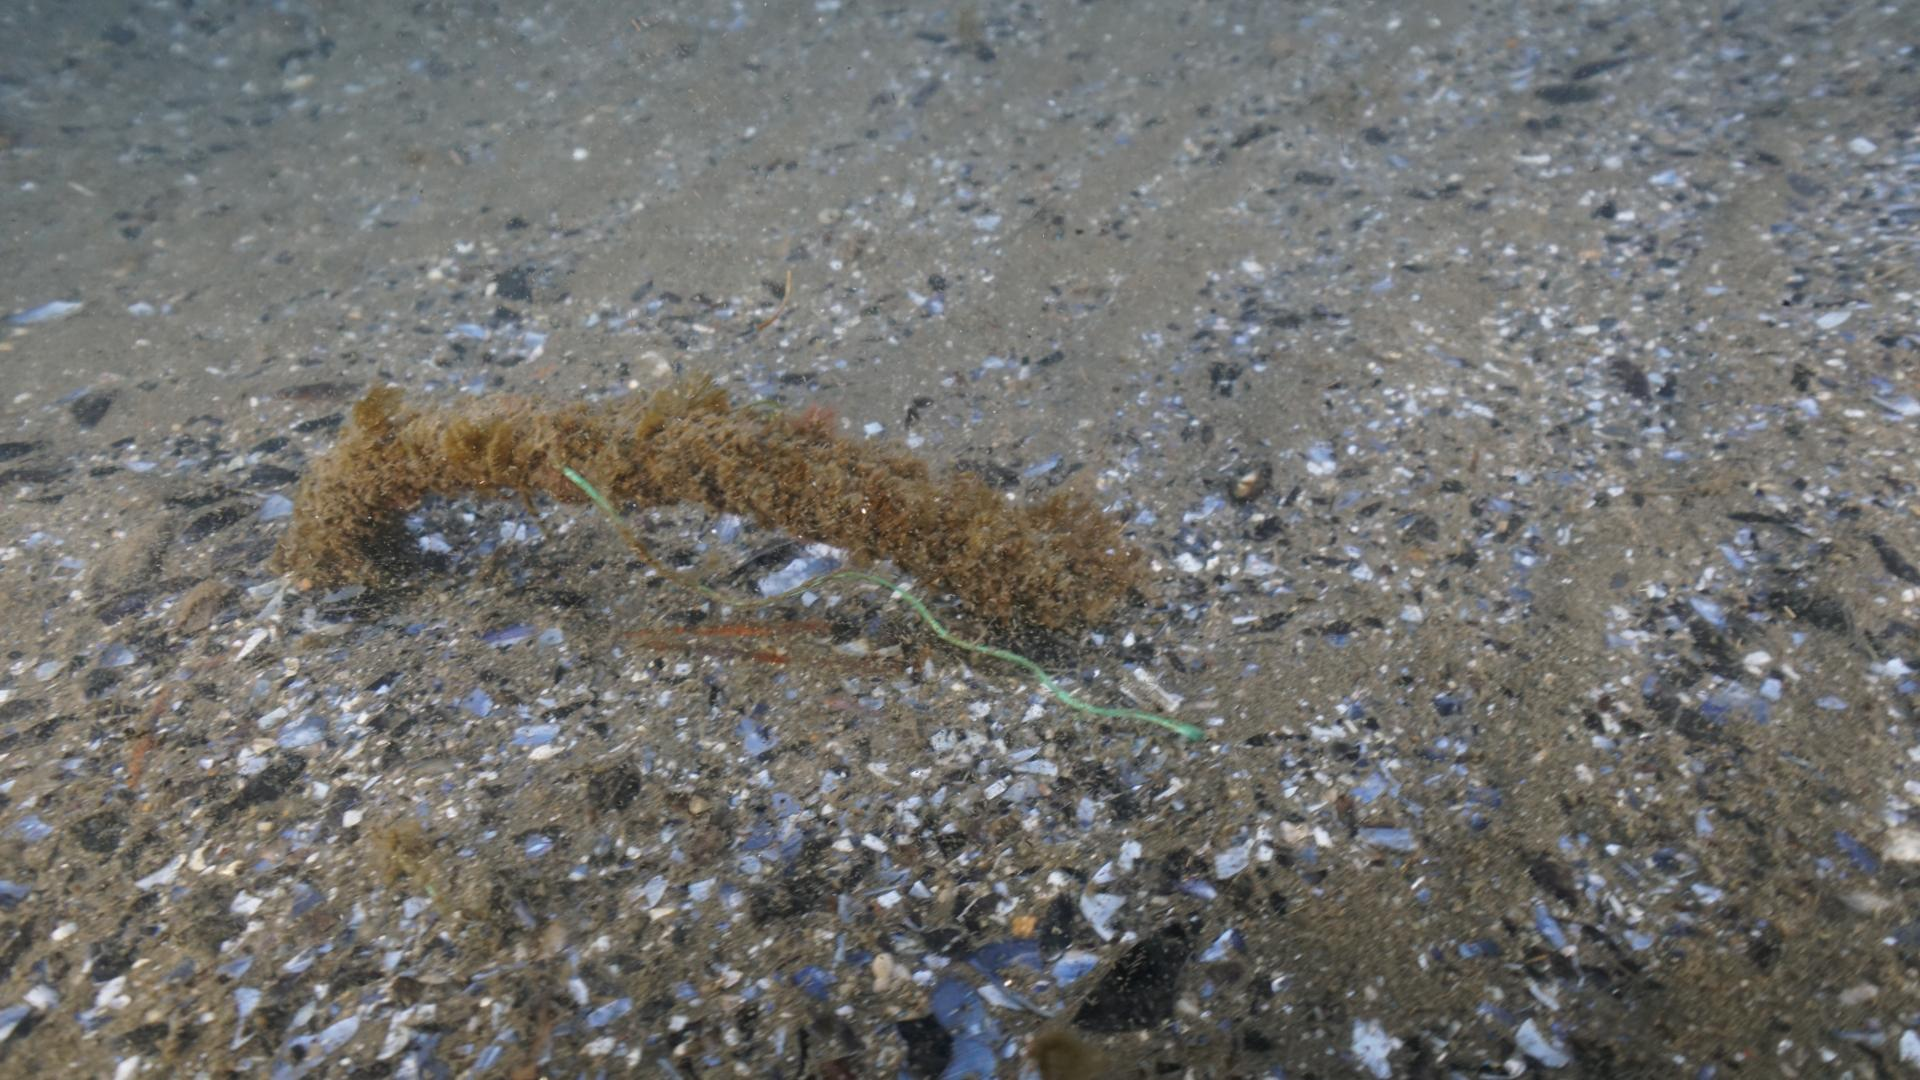rope: (289, 376, 1145, 626)
